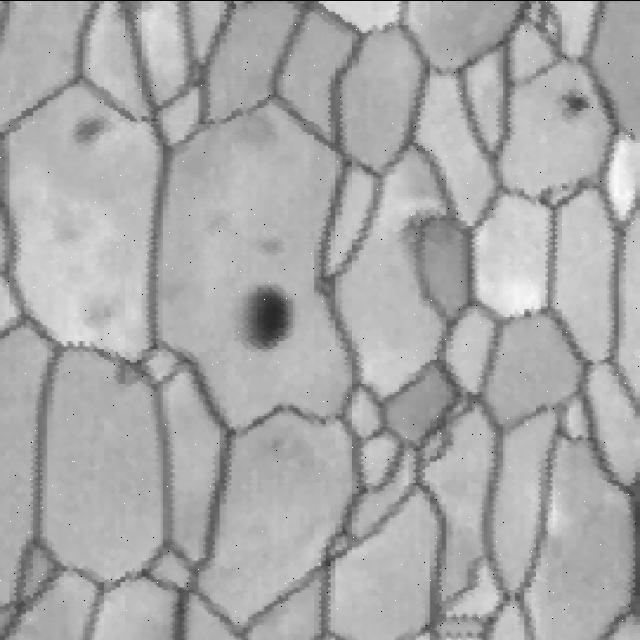good_void: (227, 277, 297, 366), (554, 79, 596, 131), (68, 112, 116, 148), (252, 234, 293, 261), (516, 297, 538, 333), (531, 181, 557, 211)
